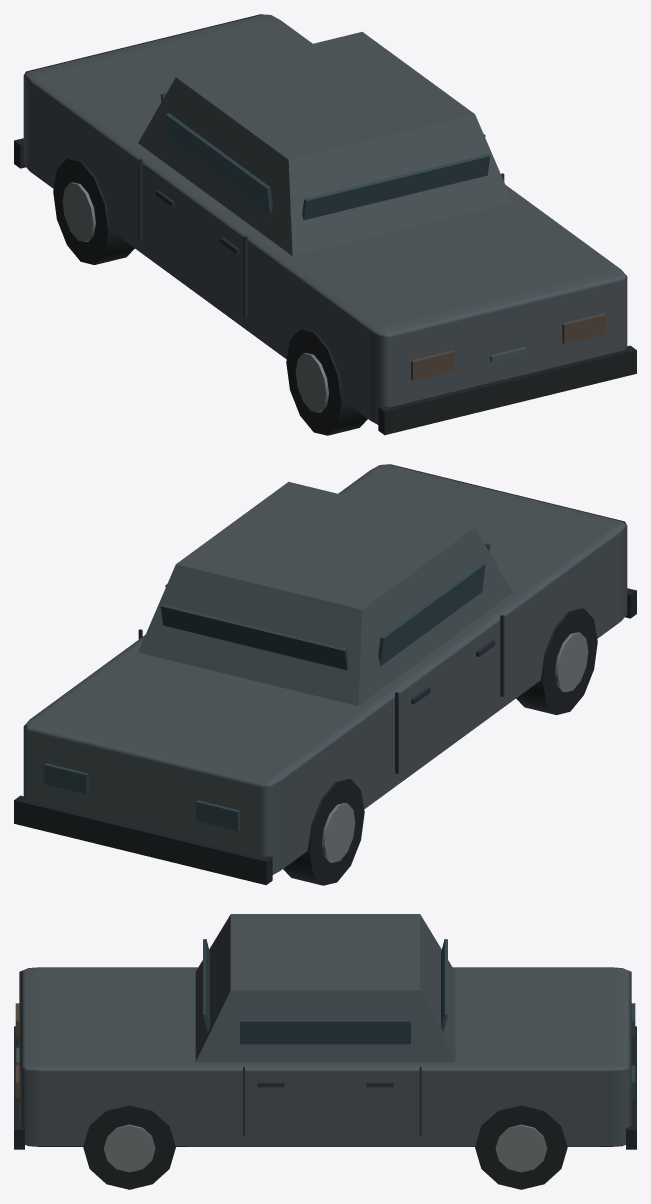
Rendered from sedan-3.glb.
3 renders of one model, top to bottom at view 1: azimuth 30°, elevation 25°; view 2: azimuth 150°, elevation 25°; view 3: azimuth 270°, elevation 25°, orthographic. The views are drawn at different scales.
Visible parts, largest first — view 1: sedan/2/KR-230-3; view 2: sedan/2/KR-230-3; view 3: sedan/2/KR-230-3.
Part boxes in pixels (x1,y1,x2,y2): sedan/2/KR-230-3: [14, 14, 636, 435]; sedan/2/KR-230-3: [14, 464, 636, 885]; sedan/2/KR-230-3: [14, 914, 636, 1189].
Size of the model in its own units: 1.87 by 1.5 by 4.58.
